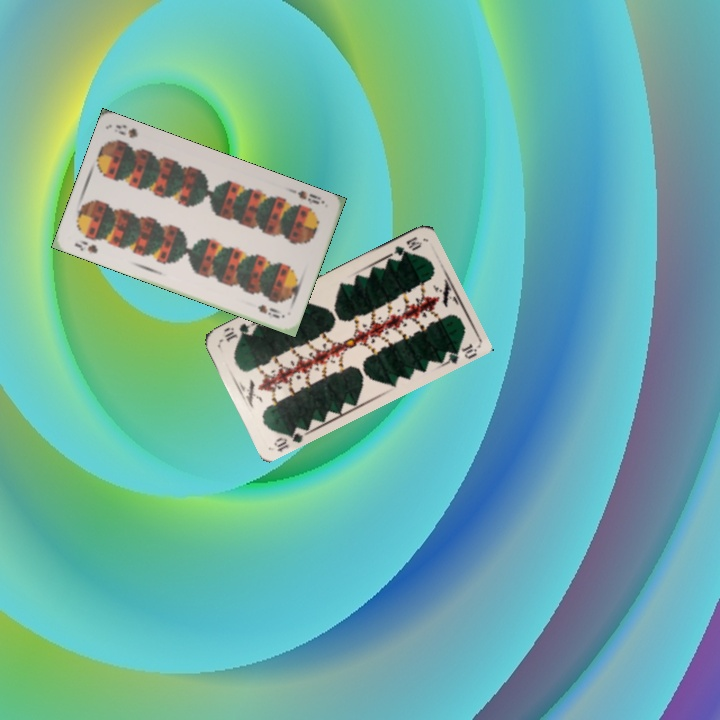G10: (385, 232, 424, 263), (270, 423, 309, 454)
S8: (70, 236, 100, 256), (294, 186, 322, 207)
